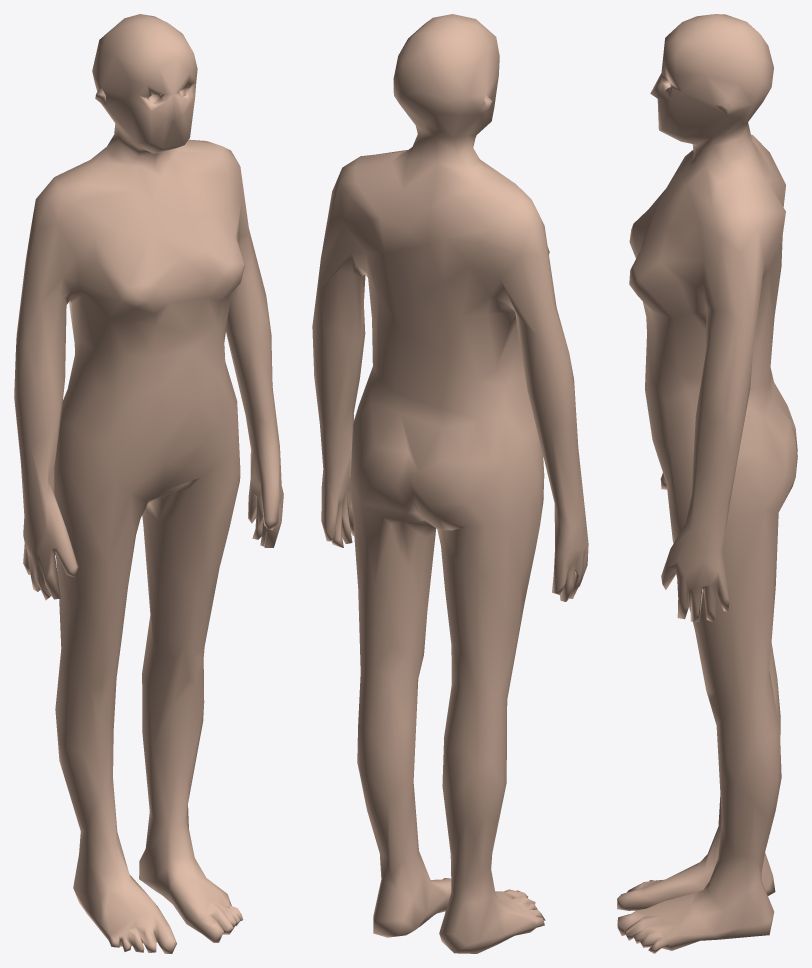
The model's file is pediatric_adolescent_female.surface.LOD3.glb.
The picture shows the model from 3 angles, left to right: view 1: azimuth 30°, elevation 25°; view 2: azimuth 150°, elevation 25°; view 3: azimuth 270°, elevation 25°; orthographic projection. The views are drawn at different scales.
Parts seen in each view (by area): view 1: PEDIATRIC.ADOLESCENT.FEMALE.SURFACE.SKIN; view 2: PEDIATRIC.ADOLESCENT.FEMALE.SURFACE.SKIN; view 3: PEDIATRIC.ADOLESCENT.FEMALE.SURFACE.SKIN.
Boxes of the visible parts, <box> form: PEDIATRIC.ADOLESCENT.FEMALE.SURFACE.SKIN: <box>14,14,283,953</box>; PEDIATRIC.ADOLESCENT.FEMALE.SURFACE.SKIN: <box>312,14,588,953</box>; PEDIATRIC.ADOLESCENT.FEMALE.SURFACE.SKIN: <box>617,14,797,953</box>.
Size of the model in its own units: 0.4741 by 1.61 by 0.2914.
